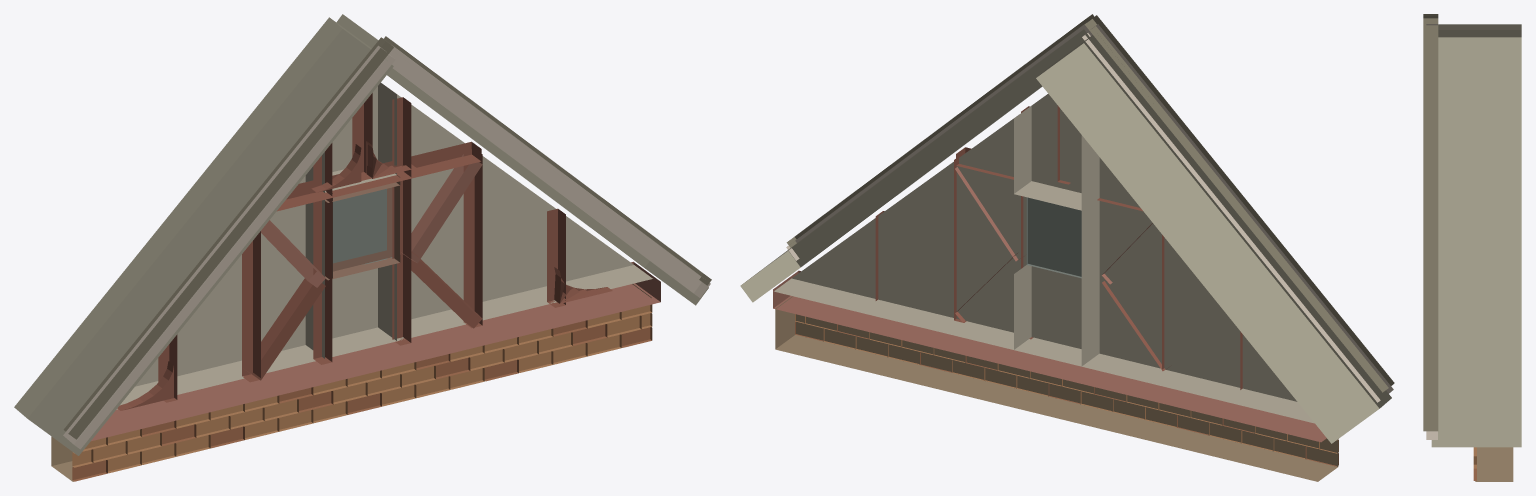
File: hongkou-dongtiyuhui-23-timber-gable-lod.glb
3 renders of one model, left to right at view 1: azimuth 30°, elevation 25°; view 2: azimuth 150°, elevation 25°; view 3: azimuth 270°, elevation 25°, orthographic. The views are drawn at different scales.
Visible parts, largest first — view 1: 东体育会路119弄23号住宅露木山花与弧形角撑; view 2: 东体育会路119弄23号住宅露木山花与弧形角撑; view 3: 东体育会路119弄23号住宅露木山花与弧形角撑.
Boxes of the visible parts, x1,y1,x2,y2 form: 东体育会路119弄23号住宅露木山花与弧形角撑: [14, 14, 711, 481]; 东体育会路119弄23号住宅露木山花与弧形角撑: [740, 14, 1394, 481]; 东体育会路119弄23号住宅露木山花与弧形角撑: [1423, 14, 1521, 481].
Bounding box in the file's own units: 4.47 × 2.59 × 0.674.
